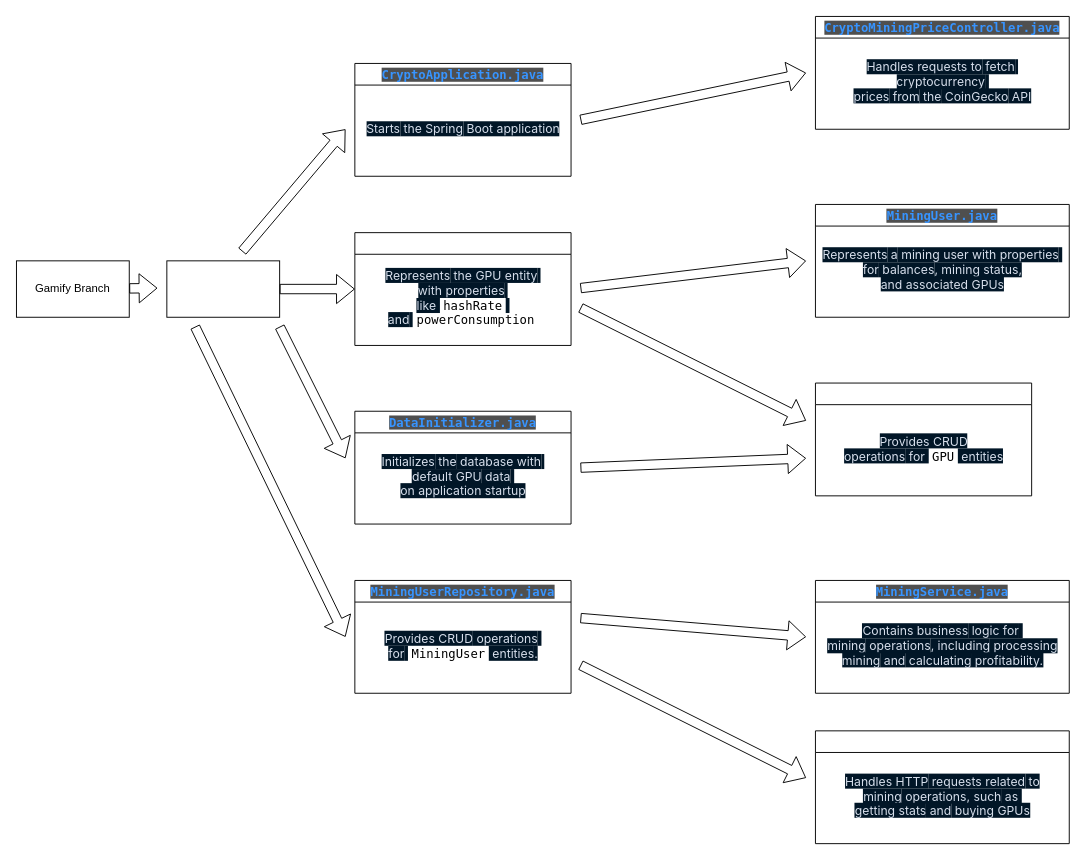
The diagram is 1086 pixels wide and 860 high, and some of its shapes have lost their labels. The shapes that lost their labels are listed below. From the top down, each one's box as (x1, y1, x2, y2) in pixels, then its label:
(166, 260, 280, 317): Crypto MIning
(354, 232, 571, 345): GPU.java
(815, 382, 1032, 496): GPURepository.java
(815, 730, 1069, 844): MiningController.java
